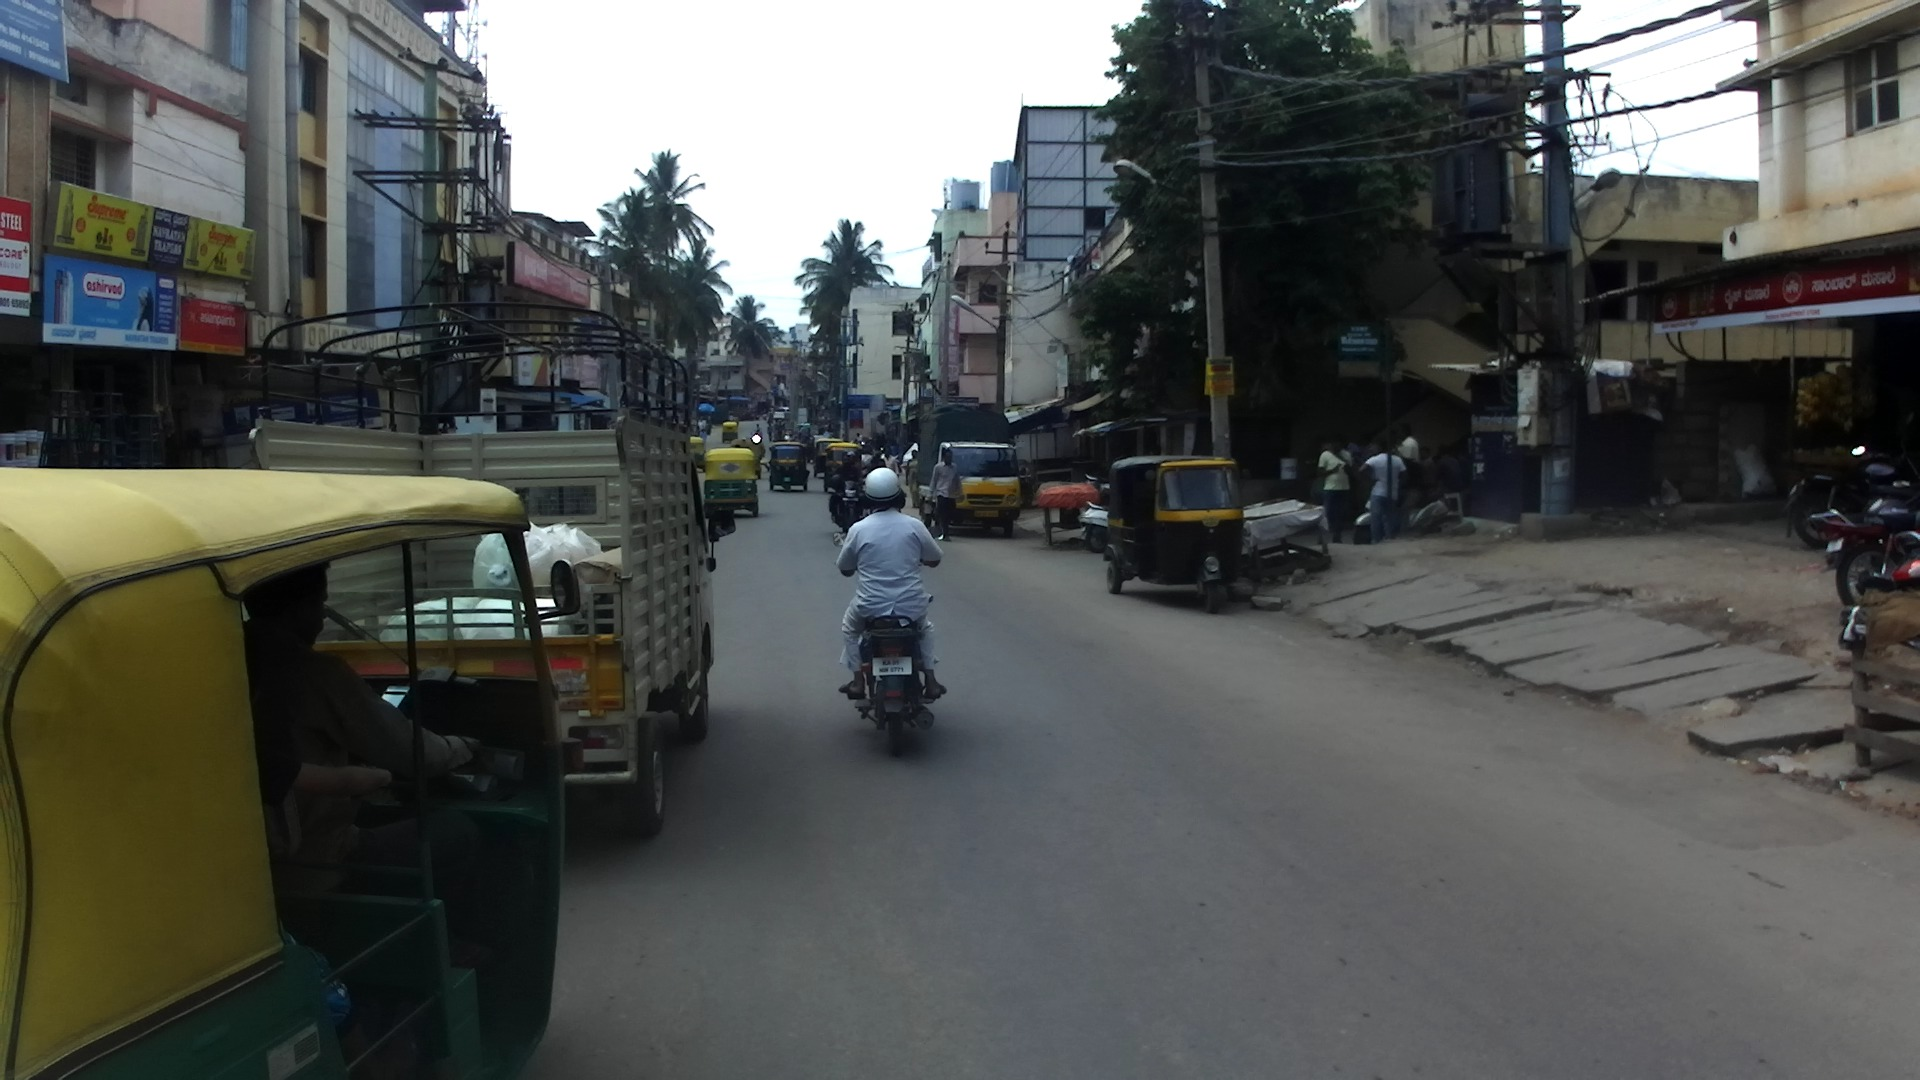autorickshaw: (2, 471, 576, 1080), (1103, 456, 1251, 617), (703, 446, 759, 521), (769, 443, 810, 494), (825, 443, 862, 494), (731, 438, 762, 480), (813, 439, 846, 478), (690, 436, 705, 474), (806, 436, 826, 464), (722, 421, 739, 444)
car: (773, 405, 794, 427)
motorcycle: (832, 527, 946, 757), (1782, 413, 1920, 553), (1805, 492, 1920, 611), (1353, 486, 1449, 546), (828, 477, 869, 536), (1077, 499, 1120, 554), (1888, 529, 1920, 600), (1085, 474, 1117, 511), (750, 430, 763, 446), (858, 441, 871, 452), (757, 446, 765, 463)
person: (1315, 436, 1353, 546), (930, 448, 964, 542), (1391, 422, 1422, 505), (1358, 433, 1386, 515), (1297, 436, 1325, 511), (1432, 444, 1463, 504), (1414, 446, 1438, 511), (1338, 438, 1362, 501), (905, 449, 923, 510), (1455, 449, 1475, 500), (880, 445, 899, 486), (757, 441, 770, 474), (772, 421, 779, 443), (699, 428, 706, 454), (697, 417, 706, 433), (767, 423, 773, 442), (706, 417, 711, 435), (766, 410, 773, 425), (779, 422, 783, 441), (726, 413, 734, 422)
rider: (837, 466, 946, 702), (1358, 440, 1406, 545), (1396, 456, 1425, 537), (830, 452, 864, 520), (865, 449, 887, 479), (858, 445, 876, 481), (752, 423, 761, 438), (855, 433, 863, 445), (757, 437, 763, 450), (827, 423, 834, 431)
truck: (252, 293, 734, 842), (916, 405, 1026, 540)
vehicle fallback: (1035, 483, 1099, 545), (797, 421, 816, 443), (755, 399, 768, 420), (813, 427, 833, 438), (783, 428, 801, 441), (735, 409, 752, 420)
